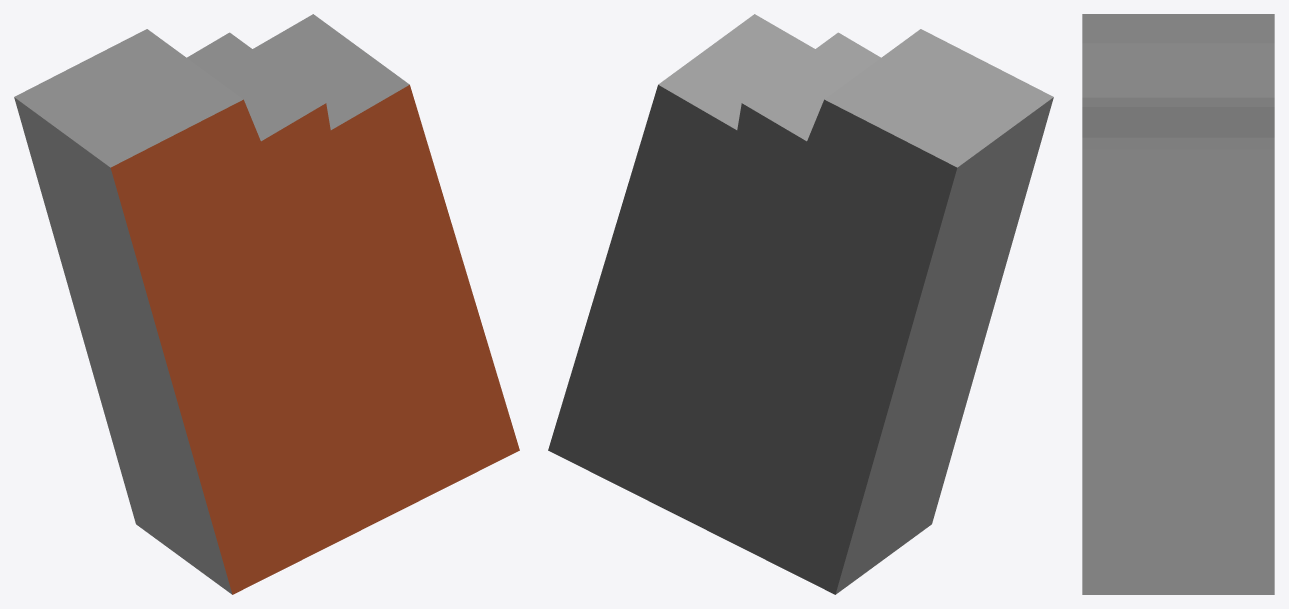
Rendered from construction_4315_assumed_A_Casa_h6m.obj.
3 renders of one model, left to right at view 1: azimuth 30°, elevation 25°; view 2: azimuth 150°, elevation 25°; view 3: azimuth 270°, elevation 25°, orthographic.
Parts seen in each view (by area): view 1: construction_4315_assumed_A_Casa; view 2: construction_4315_assumed_A_Casa; view 3: construction_4315_assumed_A_Casa.
Boxes of the visible parts, x1,y1,x2,y2 form: construction_4315_assumed_A_Casa: (14,14,519,594); construction_4315_assumed_A_Casa: (548,14,1053,594); construction_4315_assumed_A_Casa: (1082,14,1274,594).
Size of the model in its own units: 14.69 by 16.89 by 6.
